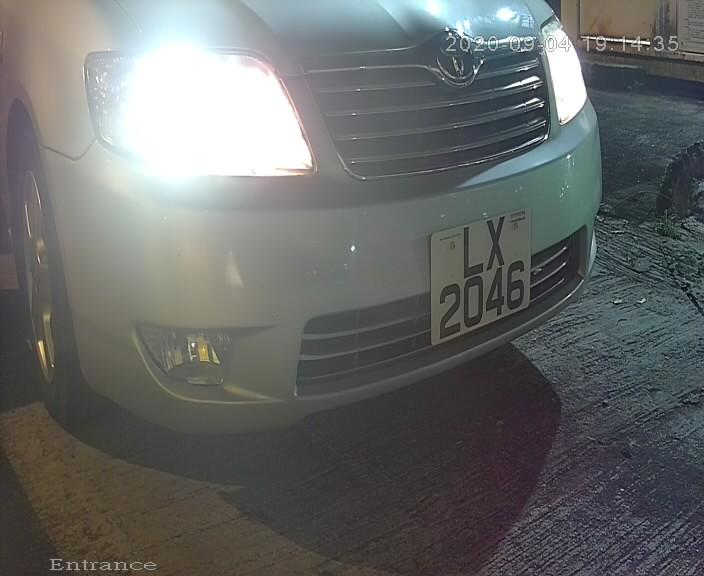License Plate: (425, 193, 535, 355)
